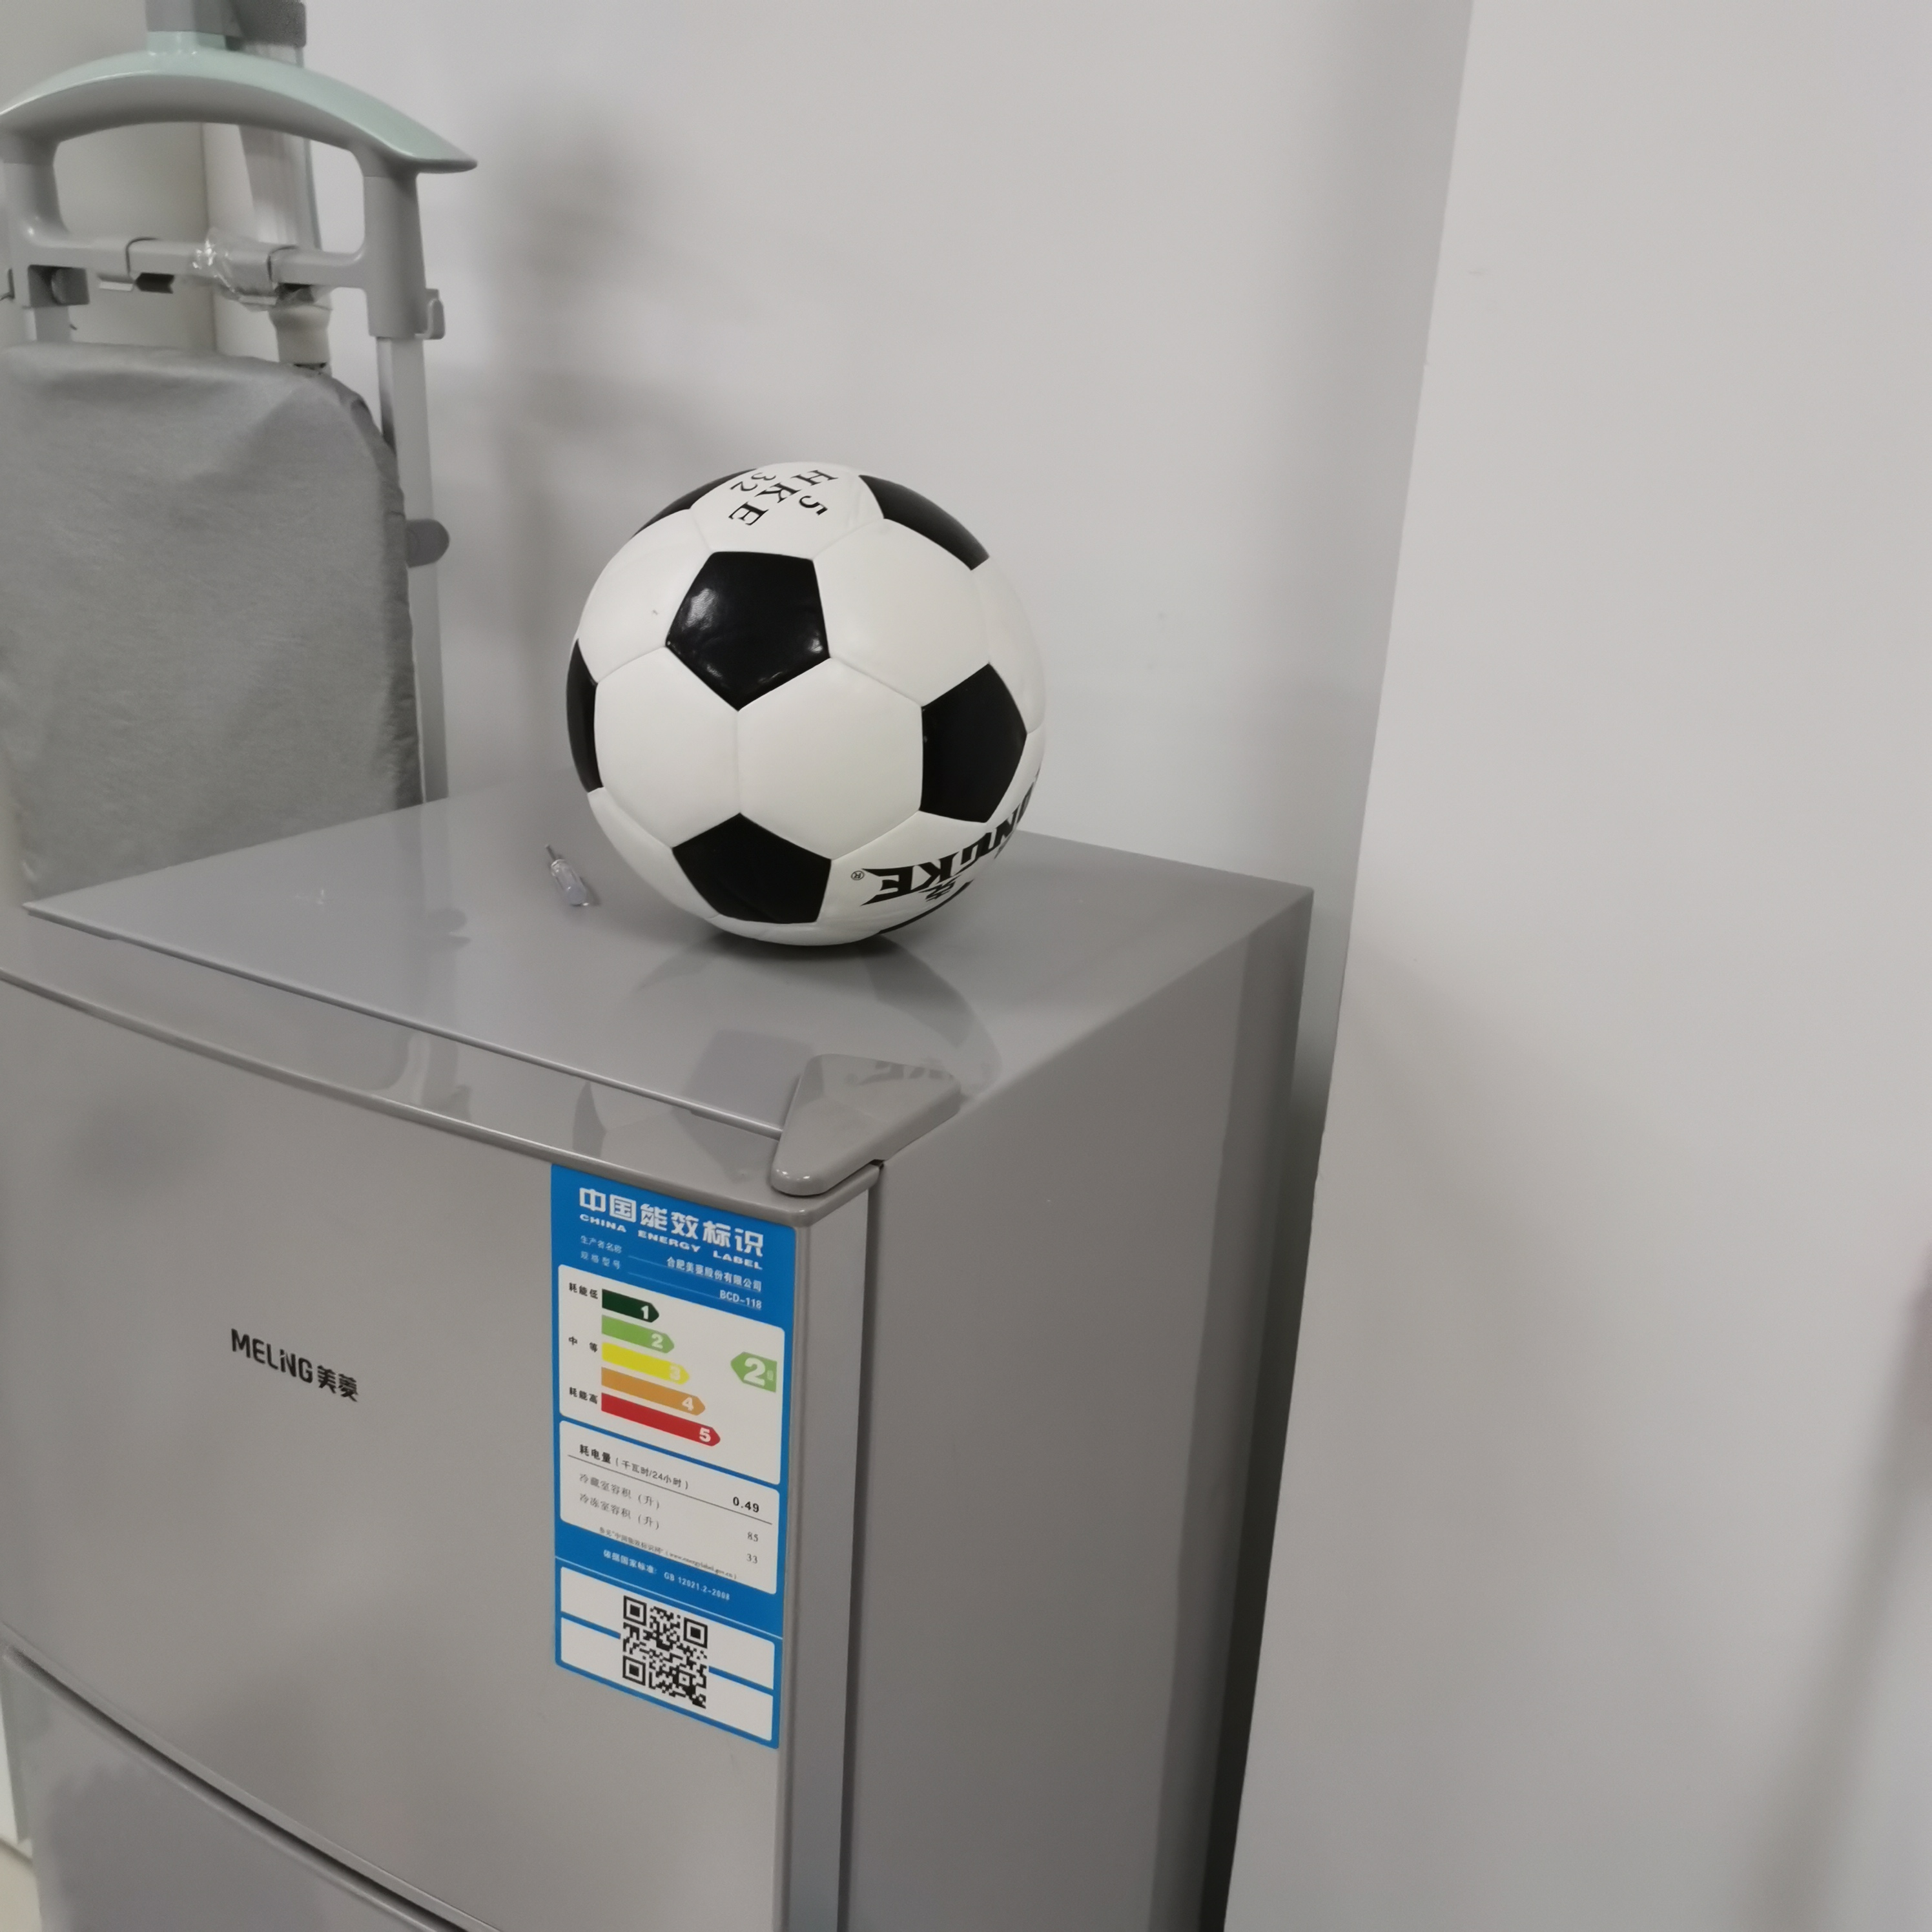football: (563, 464, 1049, 954)
